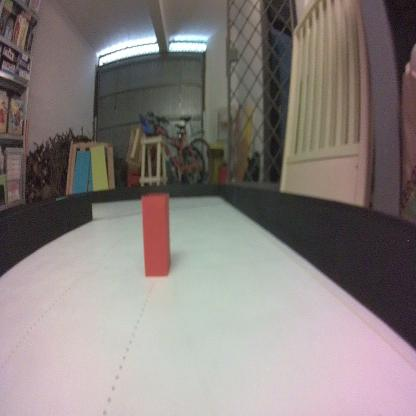red: (141, 190, 171, 278)
